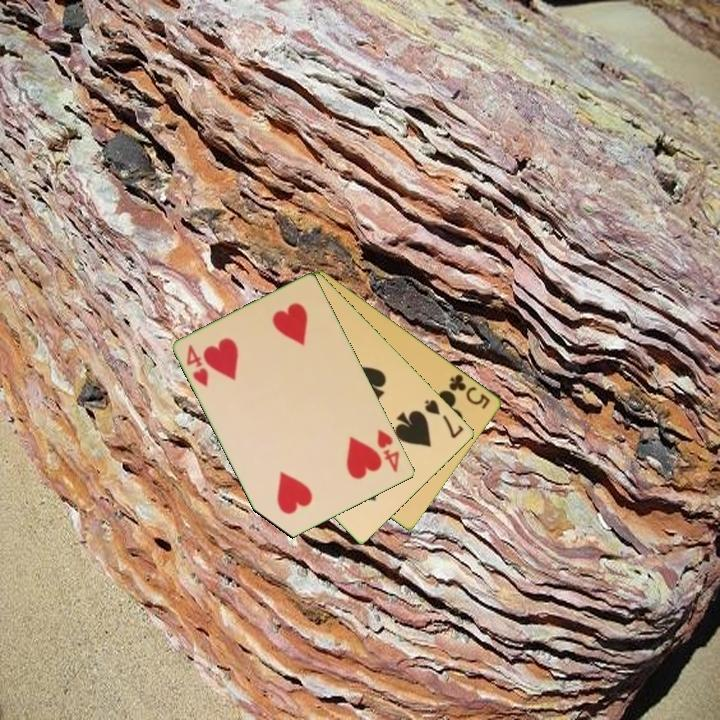4h: (374, 426, 403, 476), (183, 341, 212, 390)
5c: (446, 370, 494, 412)
7s: (421, 396, 467, 441)
